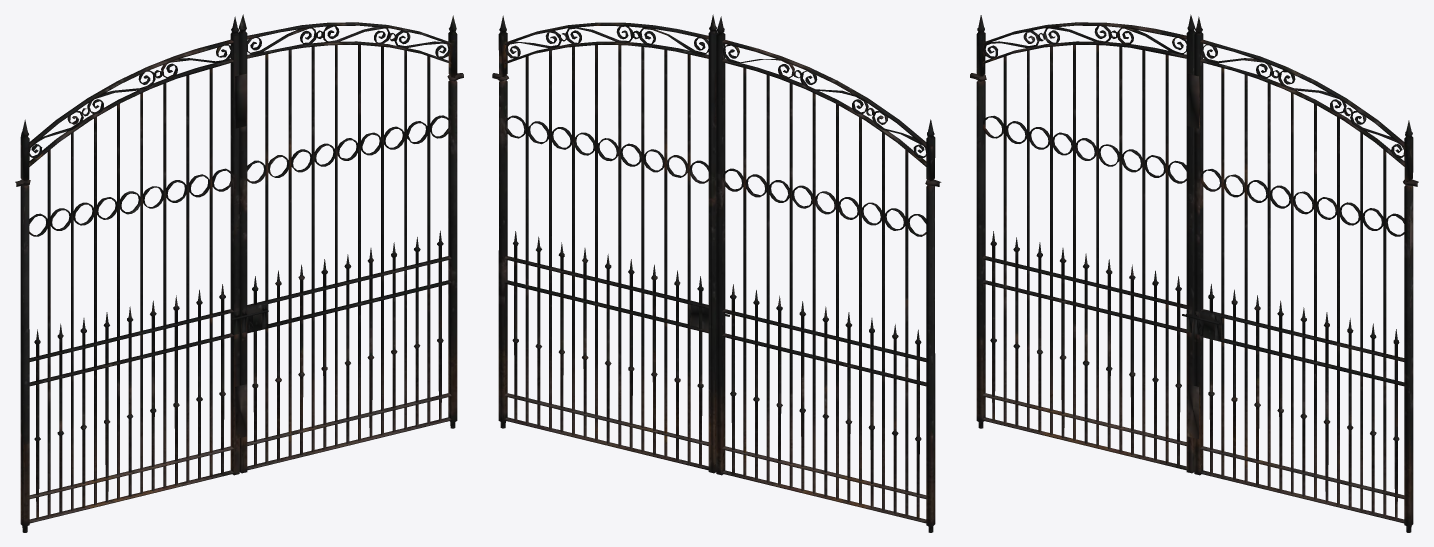
Rendered from large_iron_gate.glb.
3 views of the same model, side by side, from view 1: azimuth 30°, elevation 25°; view 2: azimuth 150°, elevation 25°; view 3: azimuth 330°, elevation 25° (orthographic).
Parts seen in each view (by area): view 1: large_iron_gate_right_door, large_iron_gate_left_door; view 2: large_iron_gate_left_door, large_iron_gate_right_door; view 3: large_iron_gate_right_door, large_iron_gate_left_door.
Boxes of the visible parts, x1,y1,x2,y2 form: large_iron_gate_right_door: (235, 14, 457, 473); large_iron_gate_left_door: (20, 16, 239, 532); large_iron_gate_left_door: (716, 16, 935, 532); large_iron_gate_right_door: (498, 14, 717, 473); large_iron_gate_right_door: (1187, 16, 1413, 532); large_iron_gate_left_door: (976, 14, 1195, 473).
Bounding box in the file's own units: 2.95 × 2.93 × 0.0973.
1 material, 1 textured.
